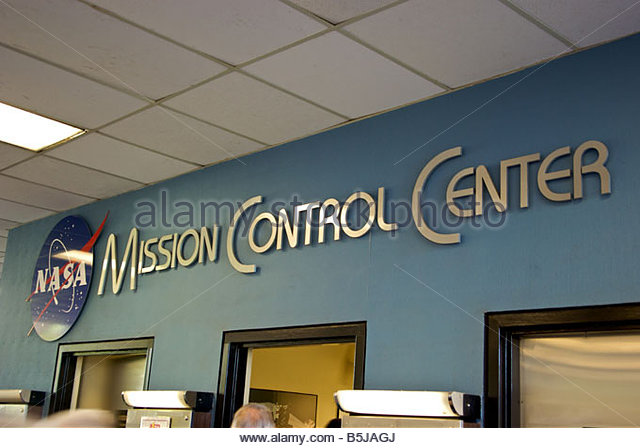NASA: (18, 200, 113, 349)
